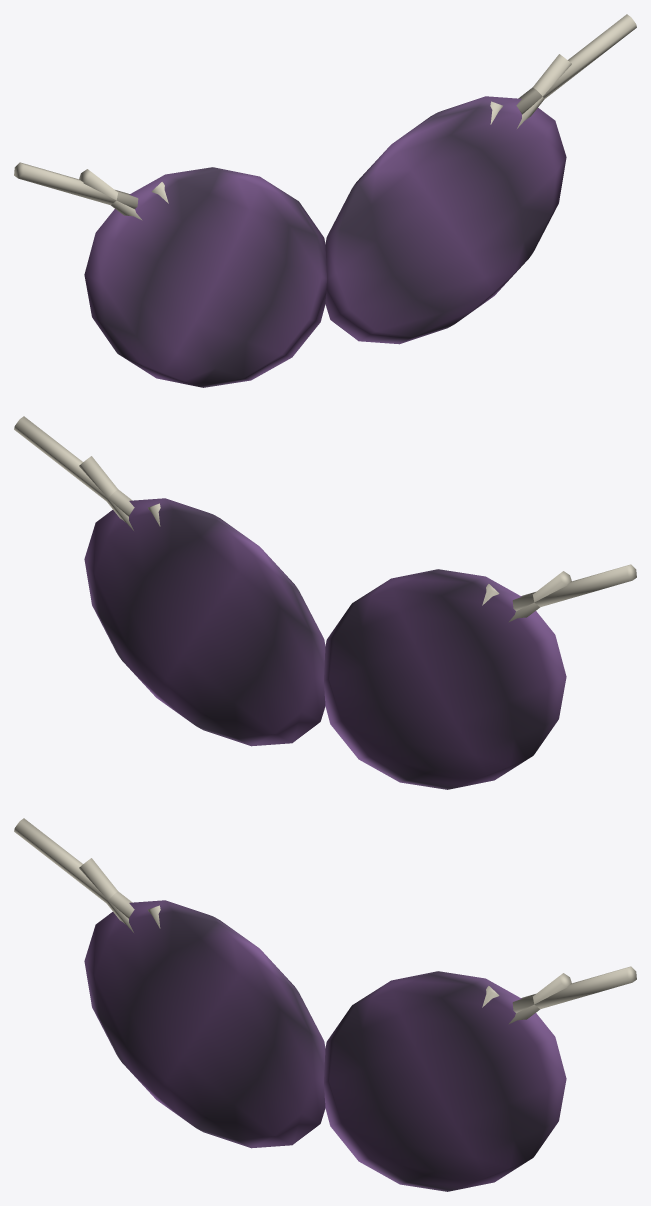
File: attach_batwings.glb
3 views of the same model, one above another, from view 1: azimuth 30°, elevation 25°; view 2: azimuth 150°, elevation 25°; view 3: azimuth 330°, elevation 25° (orthographic).
Parts seen in each view (by area): view 1: Sphere.001, Sphere, Cylinder.005, Cylinder.002, Cylinder.004, Cylinder.001; view 2: Sphere.001, Sphere, Cylinder.005, Cylinder.002, Cylinder.004, Cylinder.001; view 3: Sphere, Sphere.001, Cylinder.002, Cylinder.005, Cylinder.001, Cylinder.004.
Part boxes in pixels (x1,y1,x2,y2): Sphere.001: [325, 96, 566, 344]; Sphere: [84, 167, 326, 387]; Cylinder.005: [516, 14, 636, 114]; Cylinder.002: [14, 162, 138, 209]; Cylinder.004: [517, 54, 571, 128]; Cylinder.001: [79, 169, 142, 220]; Sphere.001: [84, 498, 325, 746]; Sphere: [324, 569, 566, 789]; Cylinder.005: [14, 416, 134, 516]; Cylinder.002: [512, 564, 636, 611]; Cylinder.004: [79, 456, 133, 530]; Cylinder.001: [508, 571, 571, 622]; Sphere: [84, 900, 325, 1148]; Sphere.001: [324, 971, 566, 1191]; Cylinder.002: [14, 818, 134, 918]; Cylinder.005: [512, 966, 636, 1013]; Cylinder.001: [79, 858, 133, 932]; Cylinder.004: [508, 973, 571, 1024].
Size of the model in its own units: 1.69 by 0.7106 by 0.072.
